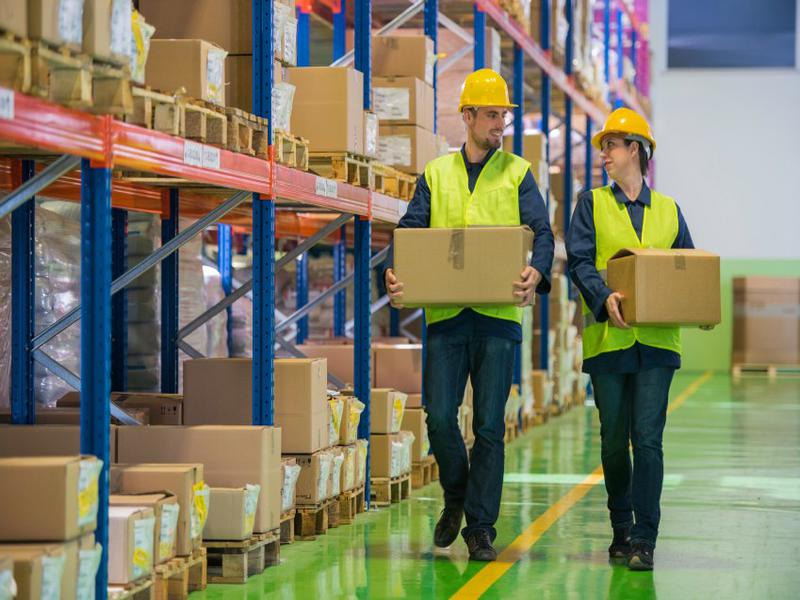hard-hat: (589, 106, 658, 154), (454, 68, 520, 118)
